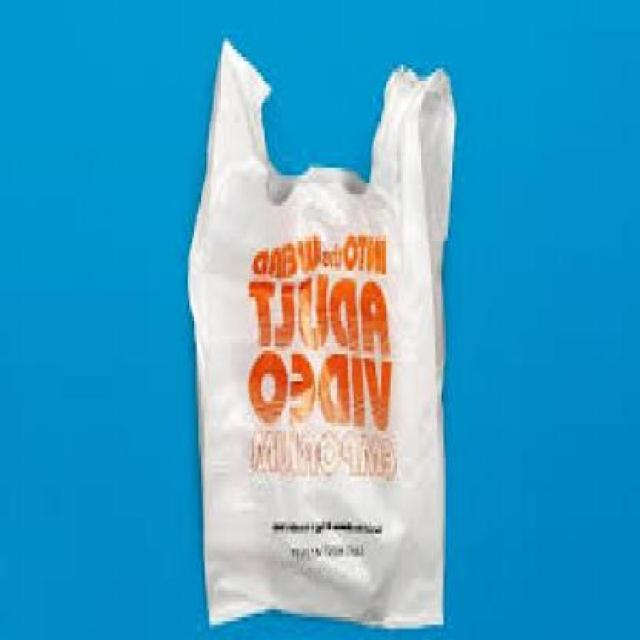PLASTIC: (187, 34, 458, 628)
